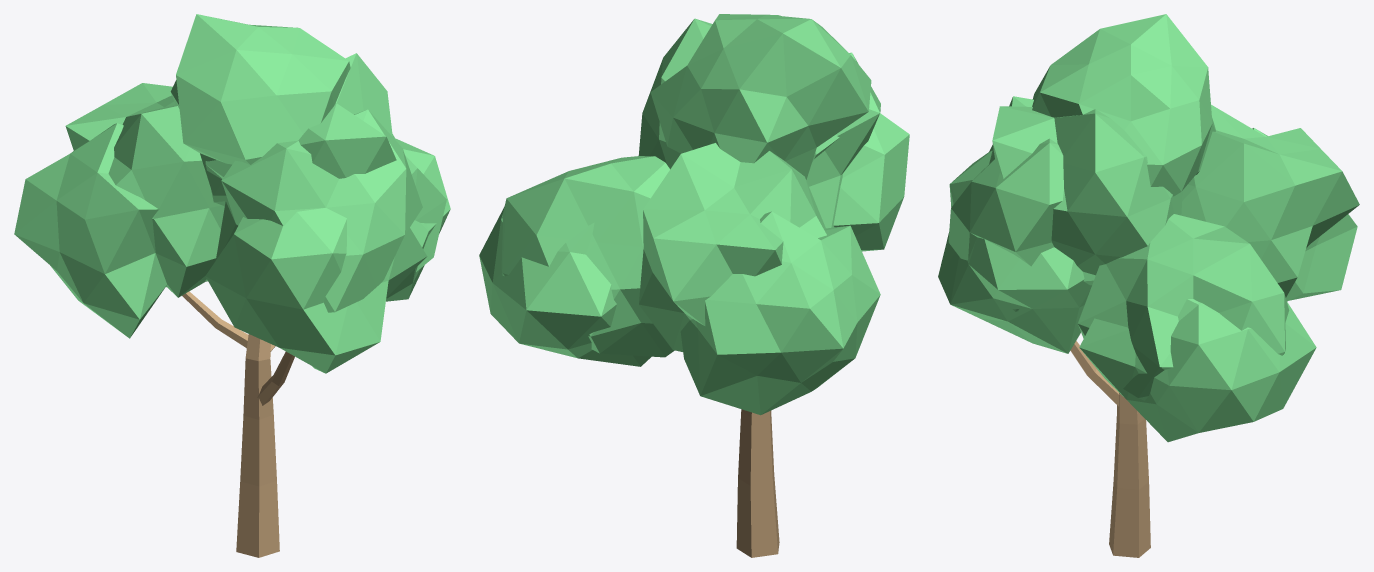
Rendered from Simple_005.fbx.
3 views of the same model, side by side, from view 1: azimuth 30°, elevation 25°; view 2: azimuth 150°, elevation 25°; view 3: azimuth 270°, elevation 25° (orthographic). The views are drawn at different scales.
Visible parts, largest first — view 1: Simple.005; view 2: Simple.005; view 3: Simple.005.
Part boxes in pixels (<box>): Simple.005: <box>14,14,450,557</box>; Simple.005: <box>479,14,909,557</box>; Simple.005: <box>938,14,1359,557</box>.
Size of the model in its own units: 5.9 by 7.76 by 5.75.
